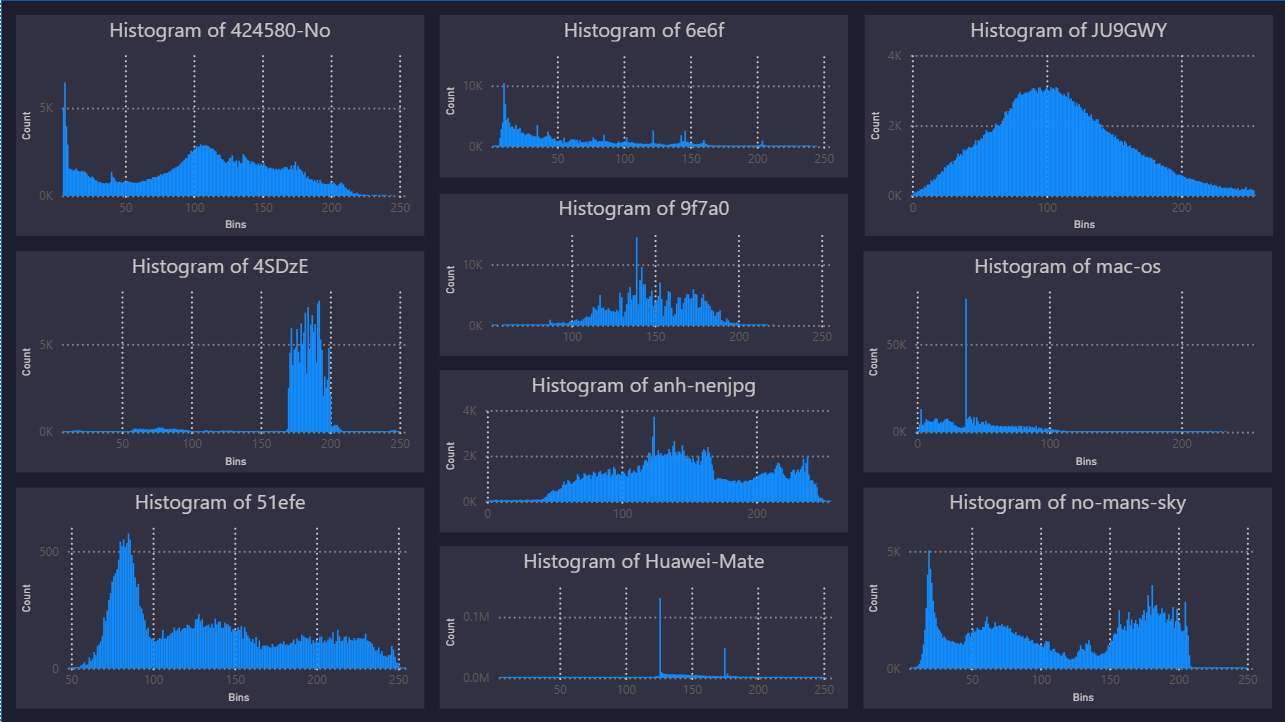

The page's visual inventory and layout, read from the dashboard file:
{"tool":"powerbi","page":{"name":"HISTOGRAM","canvas":[1280,720],"ordinal":0},"visuals":[{"type":"shape","box":[0,0,1280,720],"z":0},{"type":"clusteredColumnChart","title":"Histogram of 424580-No","fields":{"Category":["424580-No.Grayscale Value (bins)"],"Y":["CountNonNull(424580-No.Grayscale Value)"]},"box":[15,15,406,220],"z":1000},{"type":"clusteredColumnChart","title":"Histogram of Huawei-Mate","fields":{"Category":["Huawei-Mate.Grayscale Value (bins)"],"Y":["CountNonNull(Huawei-Mate.Grayscale Value)"]},"box":[436.2,543.8,406.2,161.2],"z":2000},{"type":"clusteredColumnChart","title":"Histogram of 4SDzE","fields":{"Category":["4SDzE.Grayscale Value (bins)"],"Y":["CountNonNull(4SDzE.Grayscale Value)"]},"box":[15,250,406.2,220],"z":3000},{"type":"clusteredColumnChart","title":"Histogram of 9f7a0","fields":{"Category":["9f7a0.Grayscale Value (bins)"],"Y":["CountNonNull(9f7a0.Grayscale Value)"]},"box":[436.2,192.5,406.2,161.2],"z":4000},{"type":"clusteredColumnChart","title":"Histogram of 6e6f","fields":{"Category":["6e6f.Grayscale Value (bins)"],"Y":["CountNonNull(6e6f.Grayscale Value)"]},"box":[436.2,15,406.2,161.2],"z":5000},{"type":"clusteredColumnChart","title":"Histogram of anh-nenjpg","fields":{"Category":["anh-nenjpg.Grayscale Value (bins)"],"Y":["CountNonNull(anh-nenjpg.Grayscale Value)"]},"box":[436.2,368.8,406.2,161.2],"z":6000},{"type":"clusteredColumnChart","title":"Histogram of mac-os","fields":{"Category":["mac-os.Grayscale Value (bins)"],"Y":["CountNonNull(mac-os.Grayscale Value)"]},"box":[858.8,250,406.2,220],"z":7000},{"type":"clusteredColumnChart","title":"Histogram of 51efe","fields":{"Category":["51efe.Grayscale Value (bins)"],"Y":["CountNonNull(51efe.Grayscale Value)"]},"box":[15,485,406.2,220],"z":8000},{"type":"clusteredColumnChart","title":"Histogram of no-mans-sky","fields":{"Category":["no-mans-sky.Grayscale Value (bins)"],"Y":["CountNonNull(no-mans-sky.Grayscale Value)"]},"box":[858.8,485,406.2,220],"z":9000},{"type":"clusteredColumnChart","title":"Histogram of JU9GWY","fields":{"Category":["JU9GWY.Grayscale Value (bins)"],"Y":["CountNonNull(JU9GWY.Grayscale Value)"]},"box":[859,15,406,220],"z":10000}]}

Visuals, with their boxes in screenshot pixels (x1, y1, x2, y2), scaled from the page's 1280x720 canvas onto the 1285x722 screenshot:
shape: bbox=[0, 0, 1284, 721]
"Histogram of 424580-No" clusteredColumnChart: bbox=[15, 15, 423, 236]
"Histogram of Huawei-Mate" clusteredColumnChart: bbox=[438, 545, 846, 707]
"Histogram of 4SDzE" clusteredColumnChart: bbox=[15, 251, 423, 471]
"Histogram of 9f7a0" clusteredColumnChart: bbox=[438, 193, 846, 355]
"Histogram of 6e6f" clusteredColumnChart: bbox=[438, 15, 846, 177]
"Histogram of anh-nenjpg" clusteredColumnChart: bbox=[438, 370, 846, 531]
"Histogram of mac-os" clusteredColumnChart: bbox=[862, 251, 1270, 471]
"Histogram of 51efe" clusteredColumnChart: bbox=[15, 486, 423, 707]
"Histogram of no-mans-sky" clusteredColumnChart: bbox=[862, 486, 1270, 707]
"Histogram of JU9GWY" clusteredColumnChart: bbox=[862, 15, 1270, 236]
